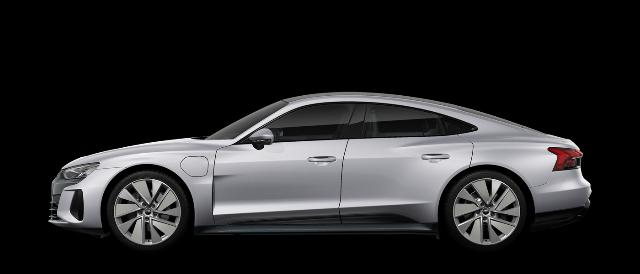audi: (48, 92, 592, 254)
